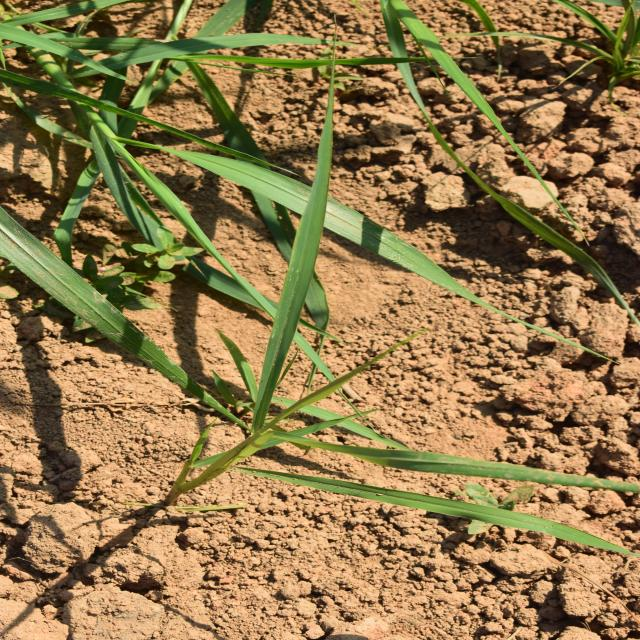green_foxtail: (118, 69, 448, 534)
